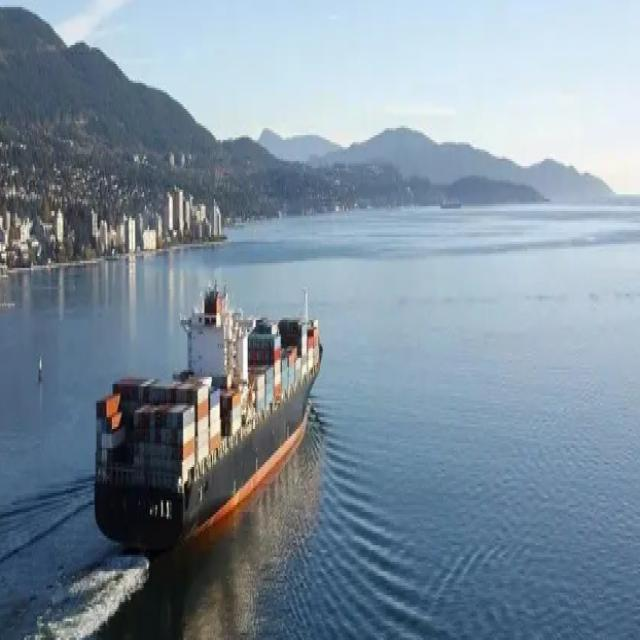cargoship: (87, 253, 324, 564)
